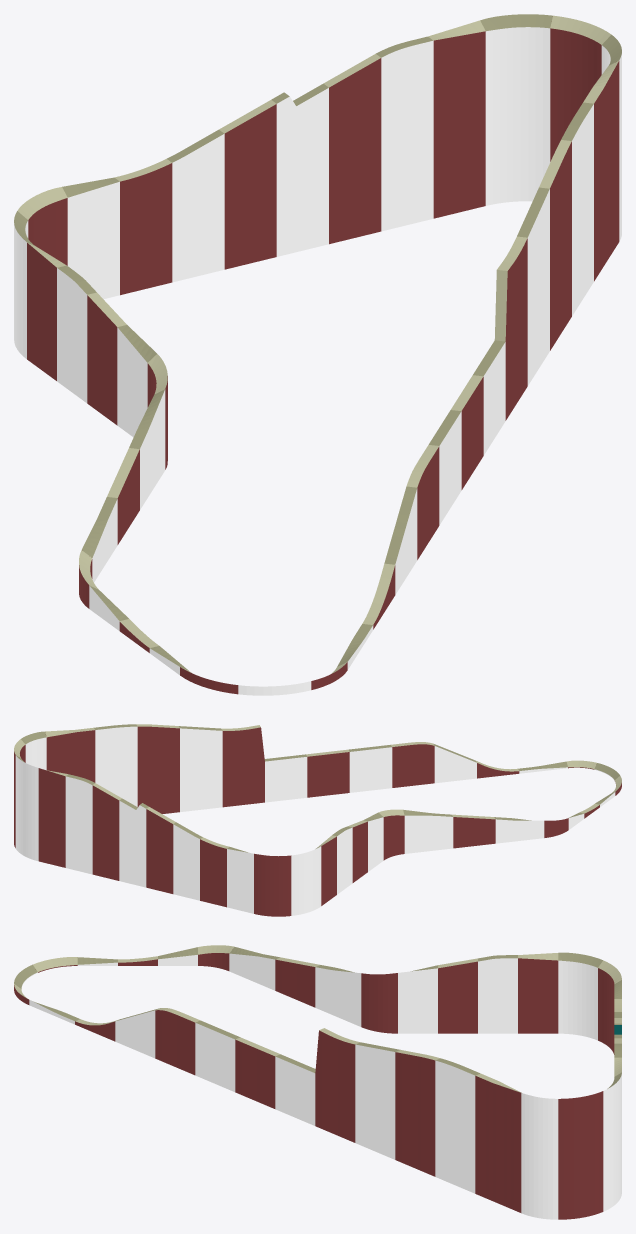
The model's file is ski-jump.glb.
3 views of the same model, one above another, from view 1: azimuth 30°, elevation 25°; view 2: azimuth 150°, elevation 25°; view 3: azimuth 270°, elevation 25° (orthographic). The views are drawn at different scales.
Parts seen in each view (by area): view 1: ski-jump; view 2: ski-jump; view 3: ski-jump.
Boxes of the visible parts, bbox=[...] form: ski-jump: bbox=[14, 14, 621, 695]; ski-jump: bbox=[14, 724, 621, 916]; ski-jump: bbox=[14, 945, 621, 1219].
Size of the model in its own units: 30.38 by 6.66 by 30.38.
